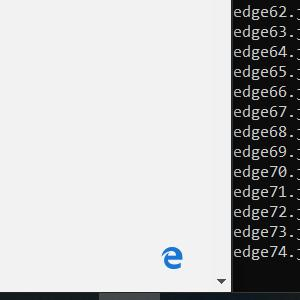edge: (162, 247, 182, 269)
